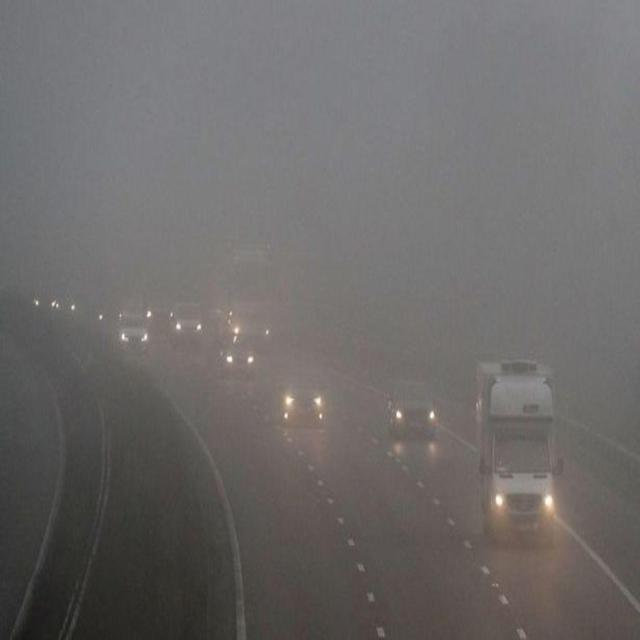Car: (385, 380, 441, 441), (276, 371, 326, 425), (216, 332, 258, 379), (167, 302, 204, 349), (116, 311, 152, 358)
Truck: (474, 354, 565, 550), (209, 234, 287, 356)
